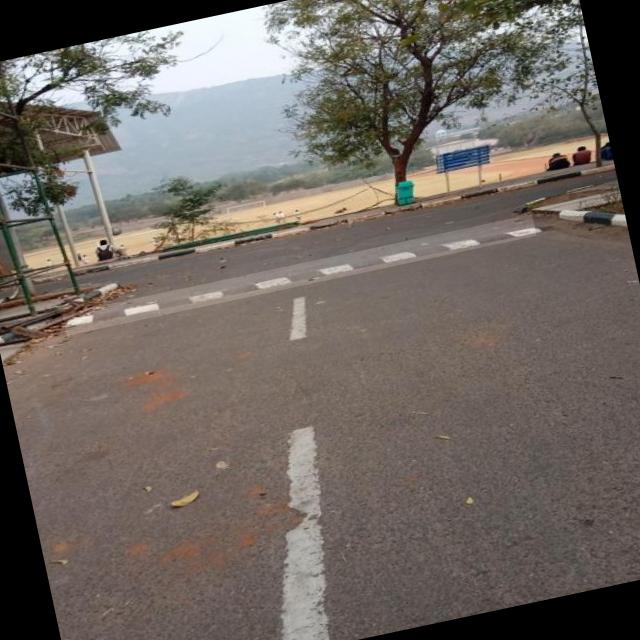bump: (62, 214, 536, 335)
